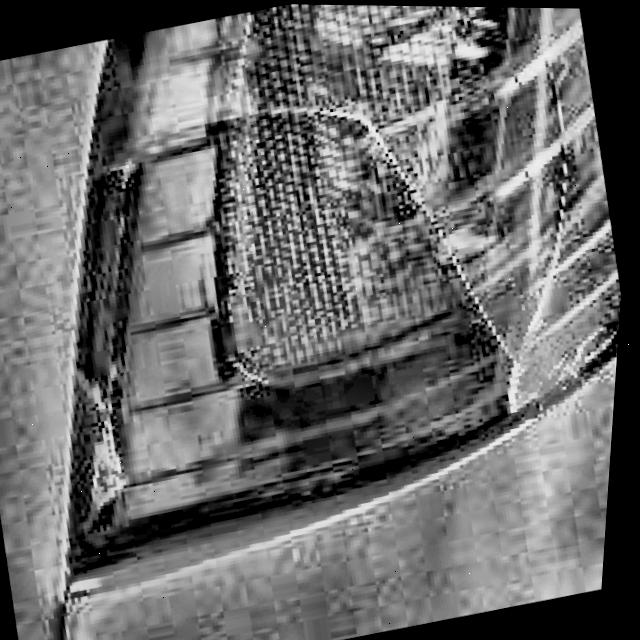tail_lamp: (110, 92, 539, 514)
